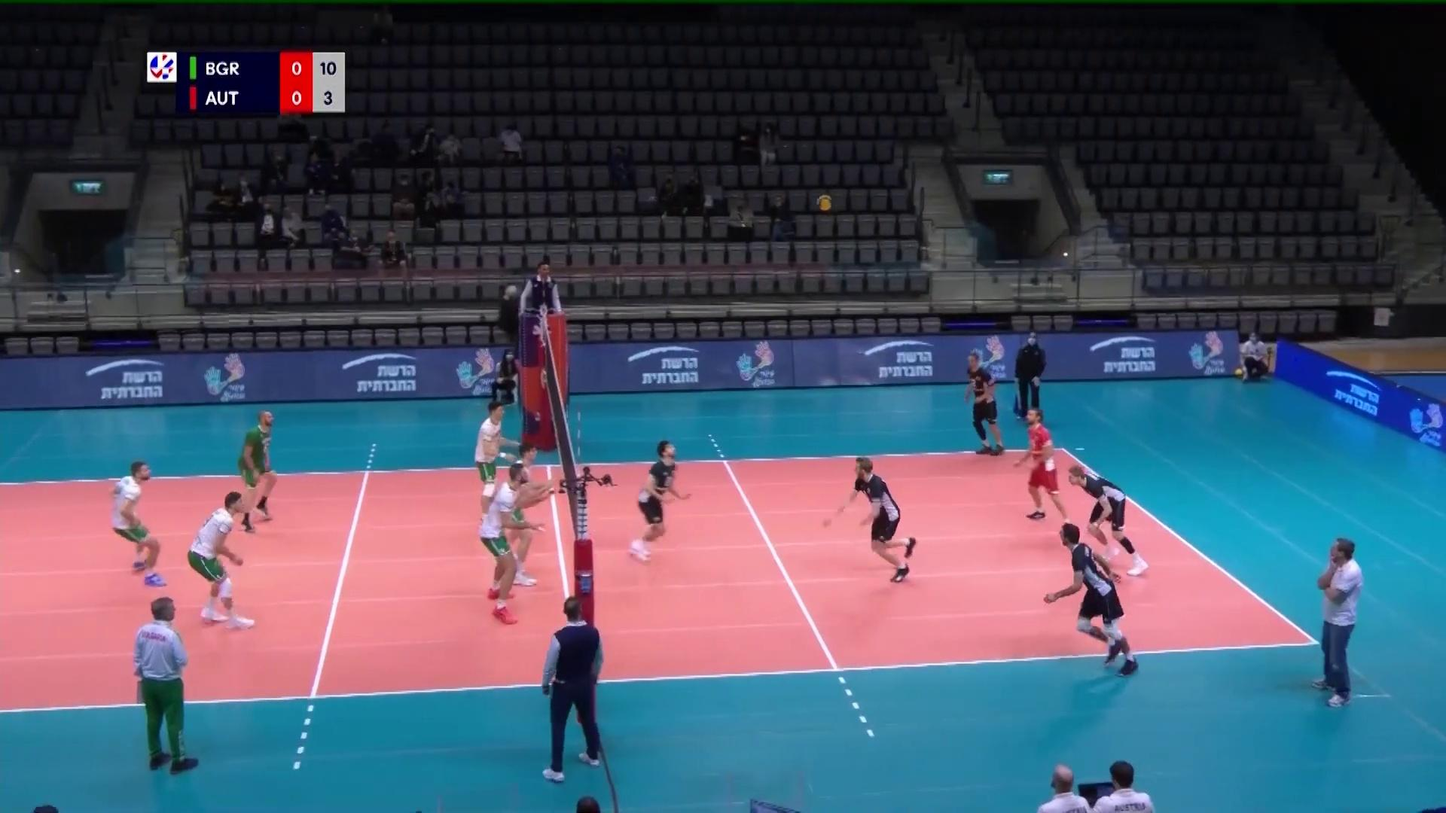ball: (814, 195, 833, 212)
